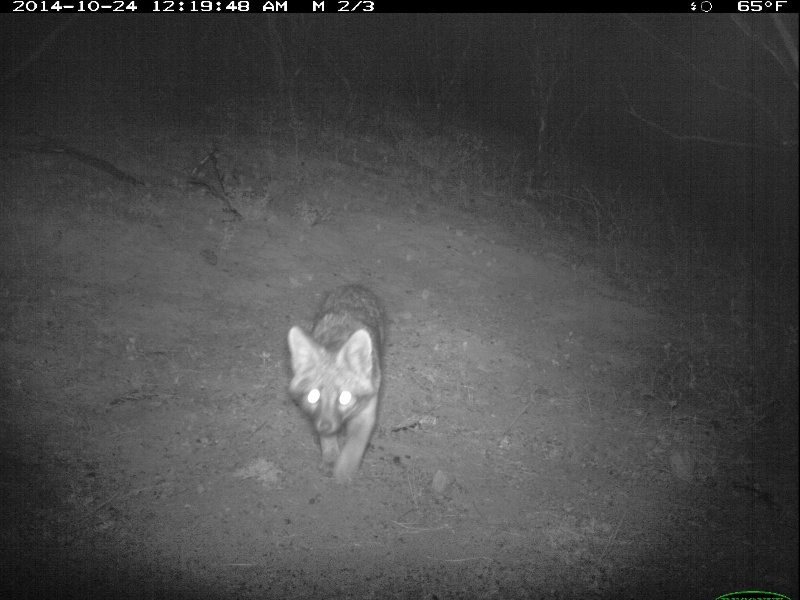coyote: (284, 286, 394, 492)
